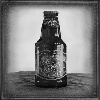beer: (34, 11, 69, 86)
